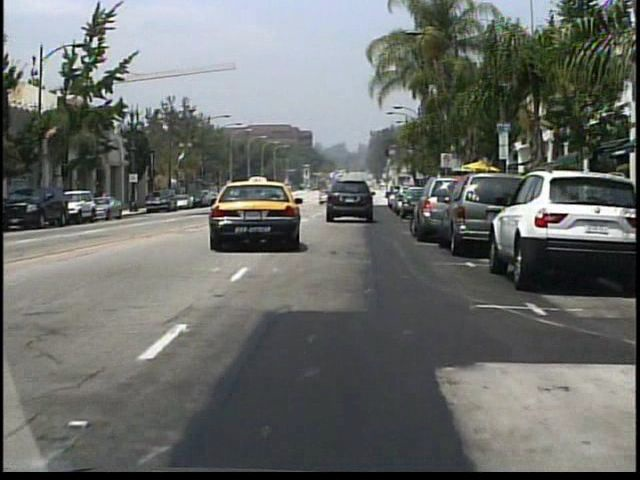person: (94, 187, 106, 198), (104, 189, 112, 198)
